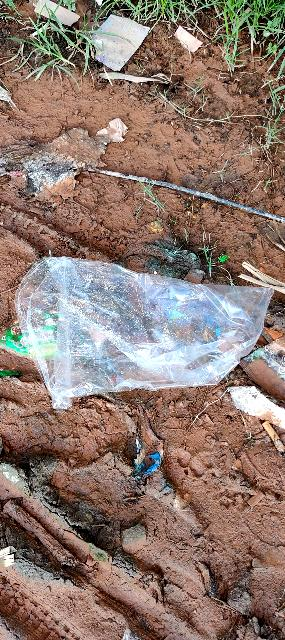polythene: (2, 248, 279, 423)
